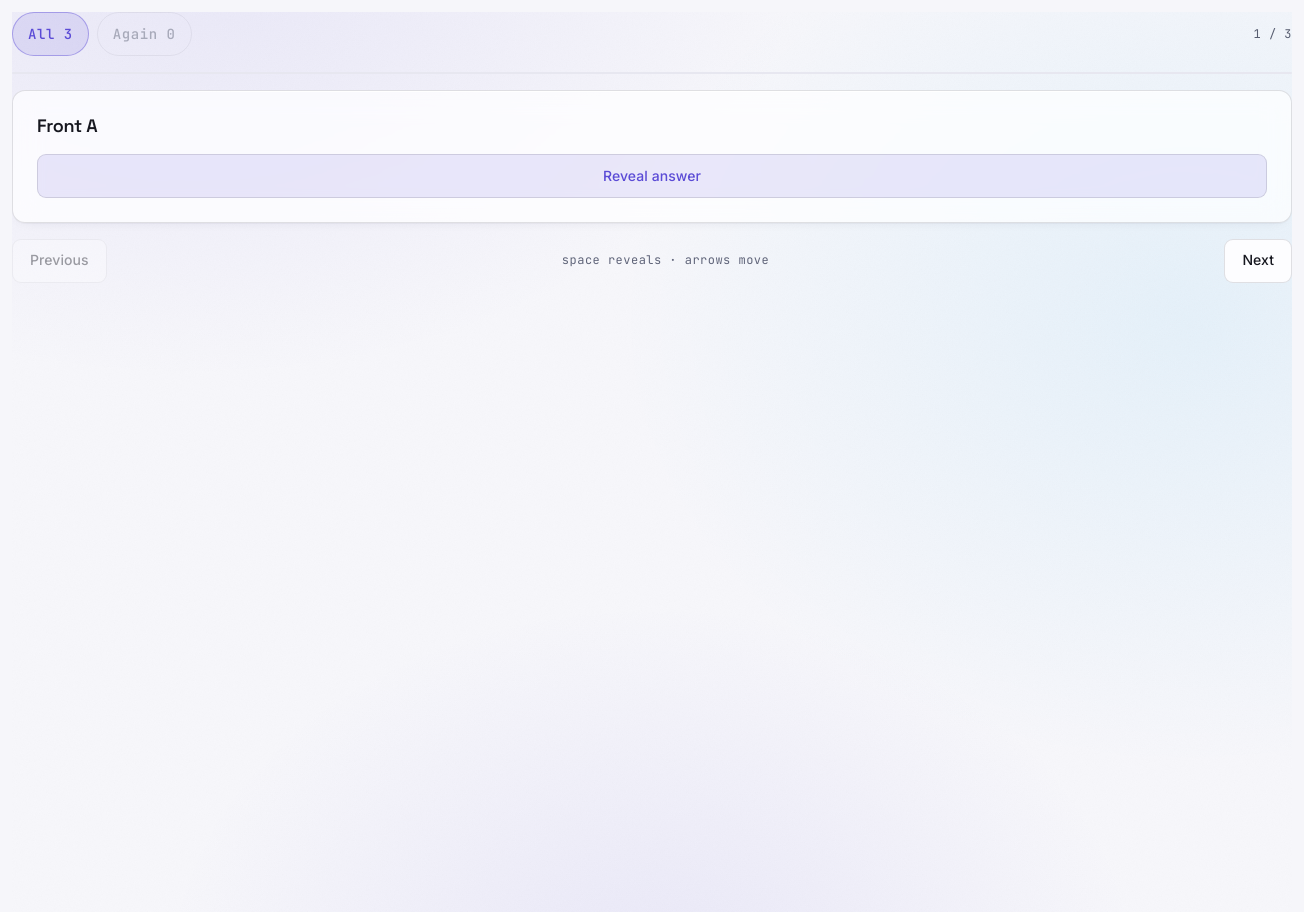
it: ReviseDeck › offers the confidence controls only after the reveal
Click the button with test id "revise-reveal".
click(652, 176)  # box [37, 154, 1267, 198]
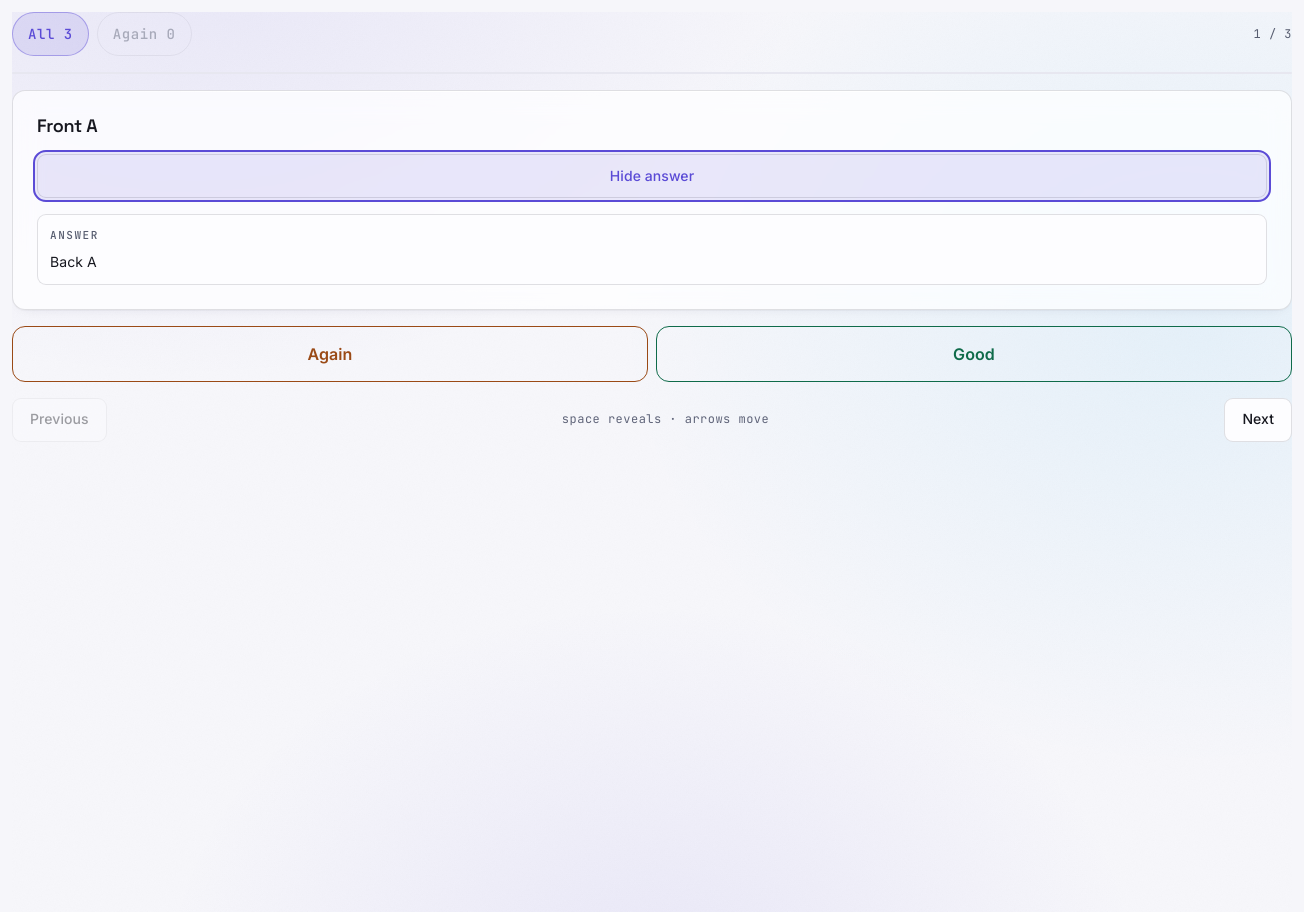
Expected: the button "Again" is shown, [12, 326, 648, 382]
Expected: the button "Good" is shown, [656, 326, 1292, 382]
